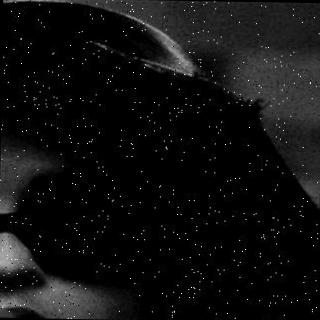smoke: (0, 191, 34, 318)
